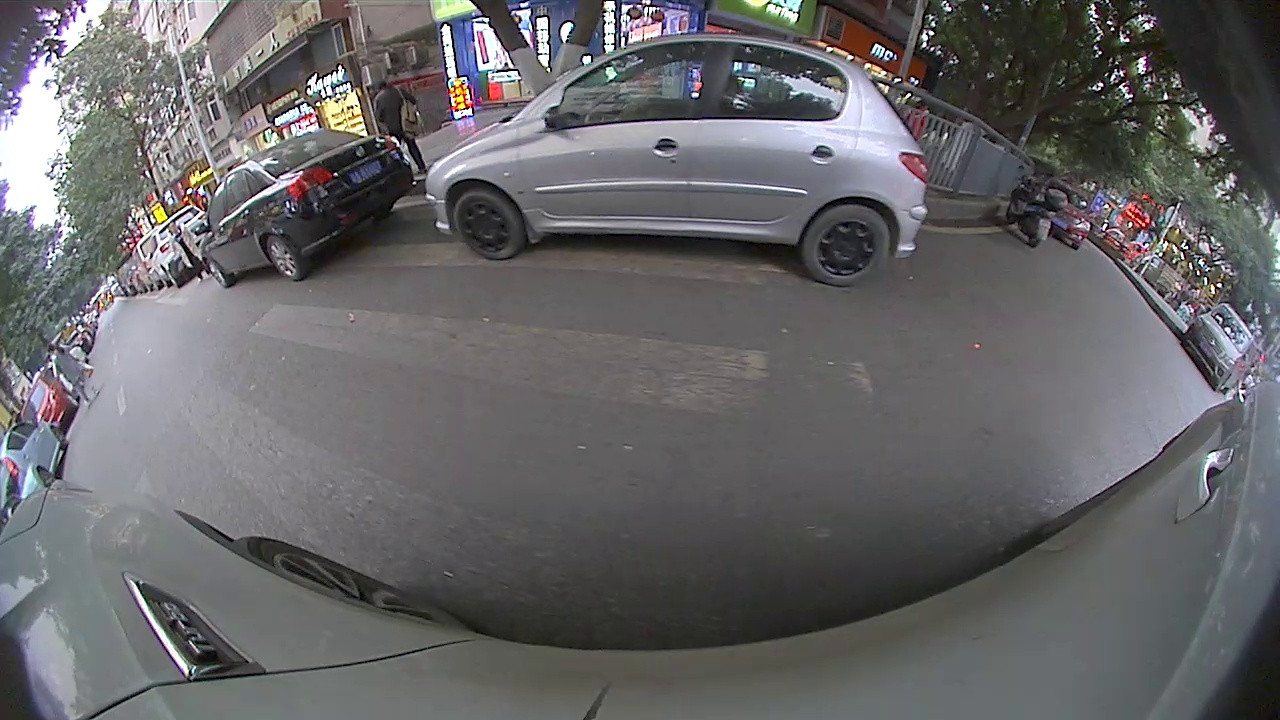car: (425, 34, 928, 290), (201, 131, 412, 288), (1180, 305, 1262, 389), (2, 420, 70, 504), (1040, 184, 1093, 250), (24, 374, 75, 433)
front: (453, 191, 527, 259), (201, 259, 231, 287)
person: (374, 80, 407, 183), (169, 221, 192, 284), (50, 344, 73, 399)
rear: (802, 205, 889, 287), (260, 234, 305, 282)
rider: (1005, 163, 1067, 246)
